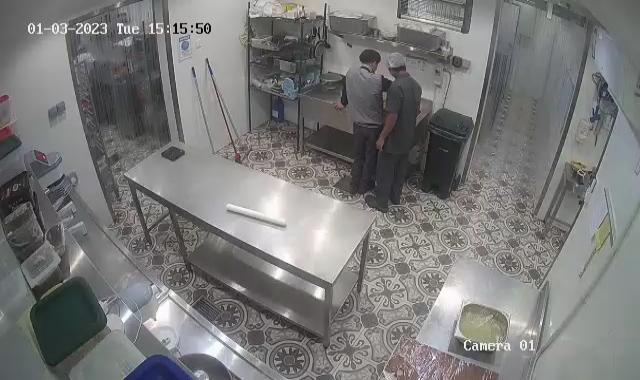hairnet: (383, 51, 408, 76)
no_hairnet: (354, 47, 381, 70)
